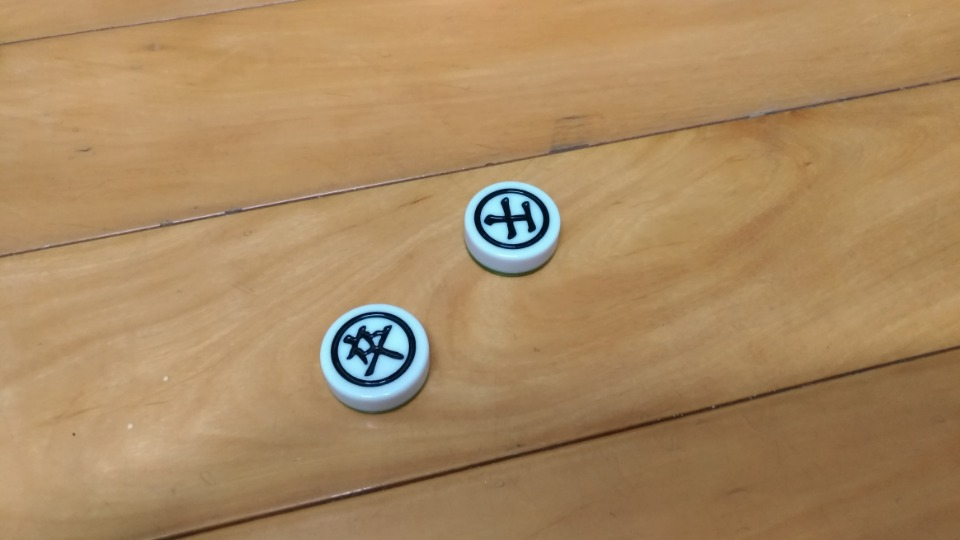b-advisor: (454, 173, 576, 279)
b-pawn: (314, 294, 445, 420)
